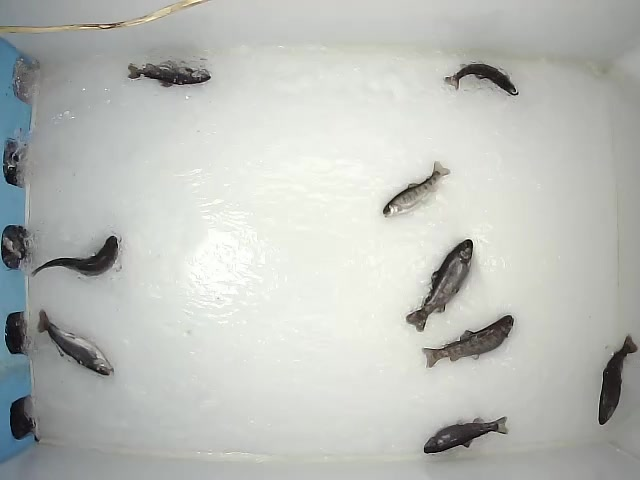fish: (405, 238, 474, 333), (36, 307, 116, 378), (421, 314, 515, 369), (382, 160, 452, 220), (28, 235, 119, 280), (598, 333, 639, 426), (423, 414, 511, 455), (442, 62, 520, 98), (127, 61, 212, 89)
